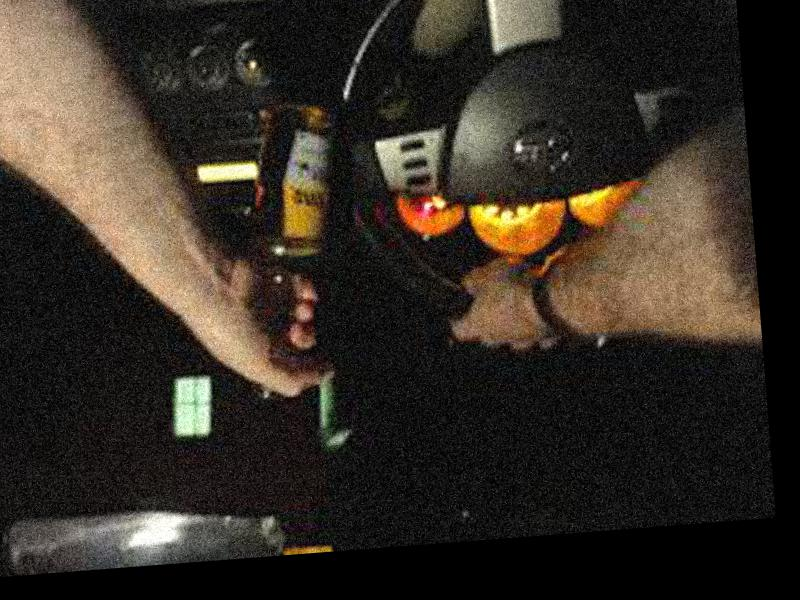Beer: (229, 103, 365, 399)
